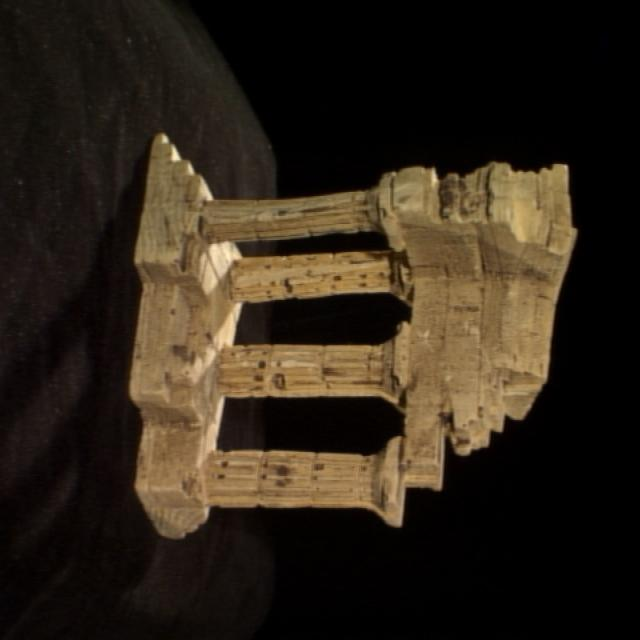Instance-Segmentation: (130, 133, 575, 536)
